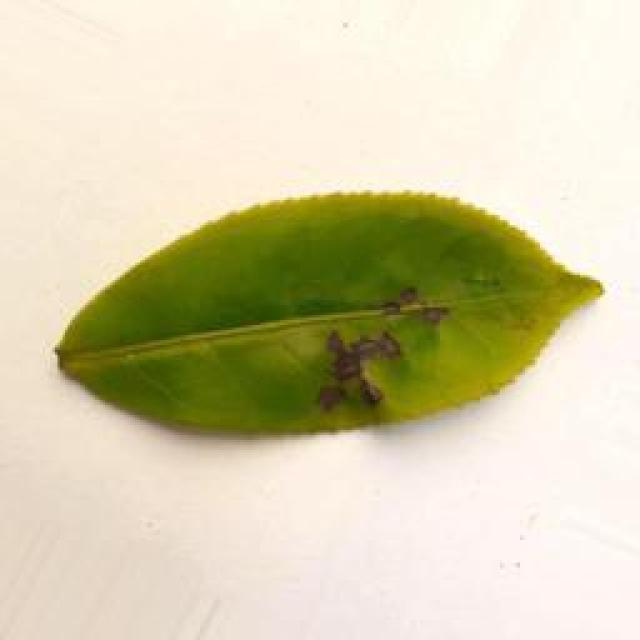Helopeltis: (45, 180, 620, 447)
